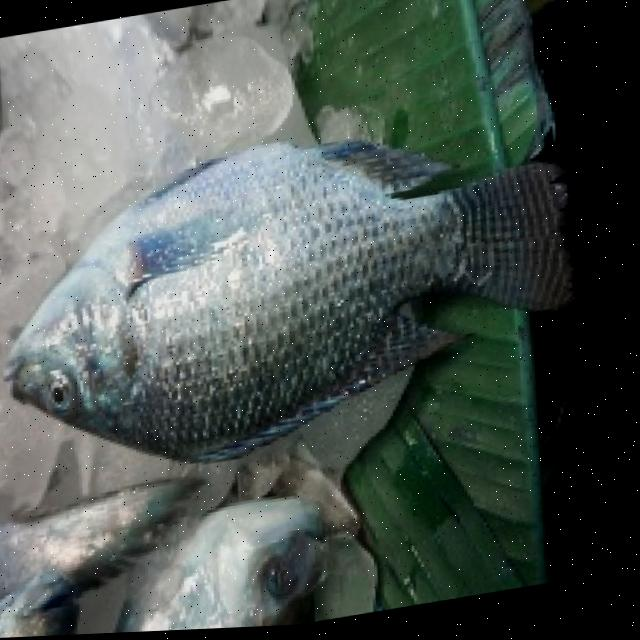Fresh: (0, 109, 482, 515)
